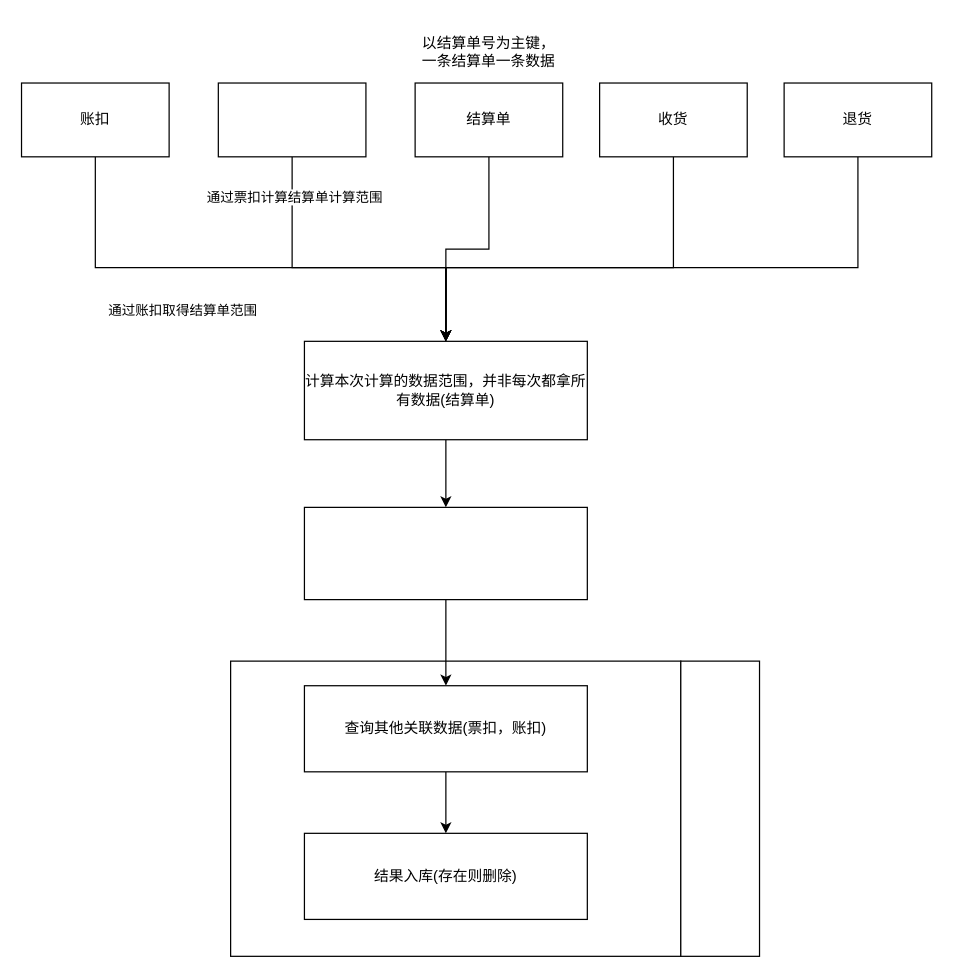
This 953x978 diagram has some shape labels left out. Each missing label, with the centre of its shape:
"循环执行" belongs at point (720, 808).
"按照数据进行分组" belongs at point (445, 553).
"票扣" belongs at point (291, 119).
